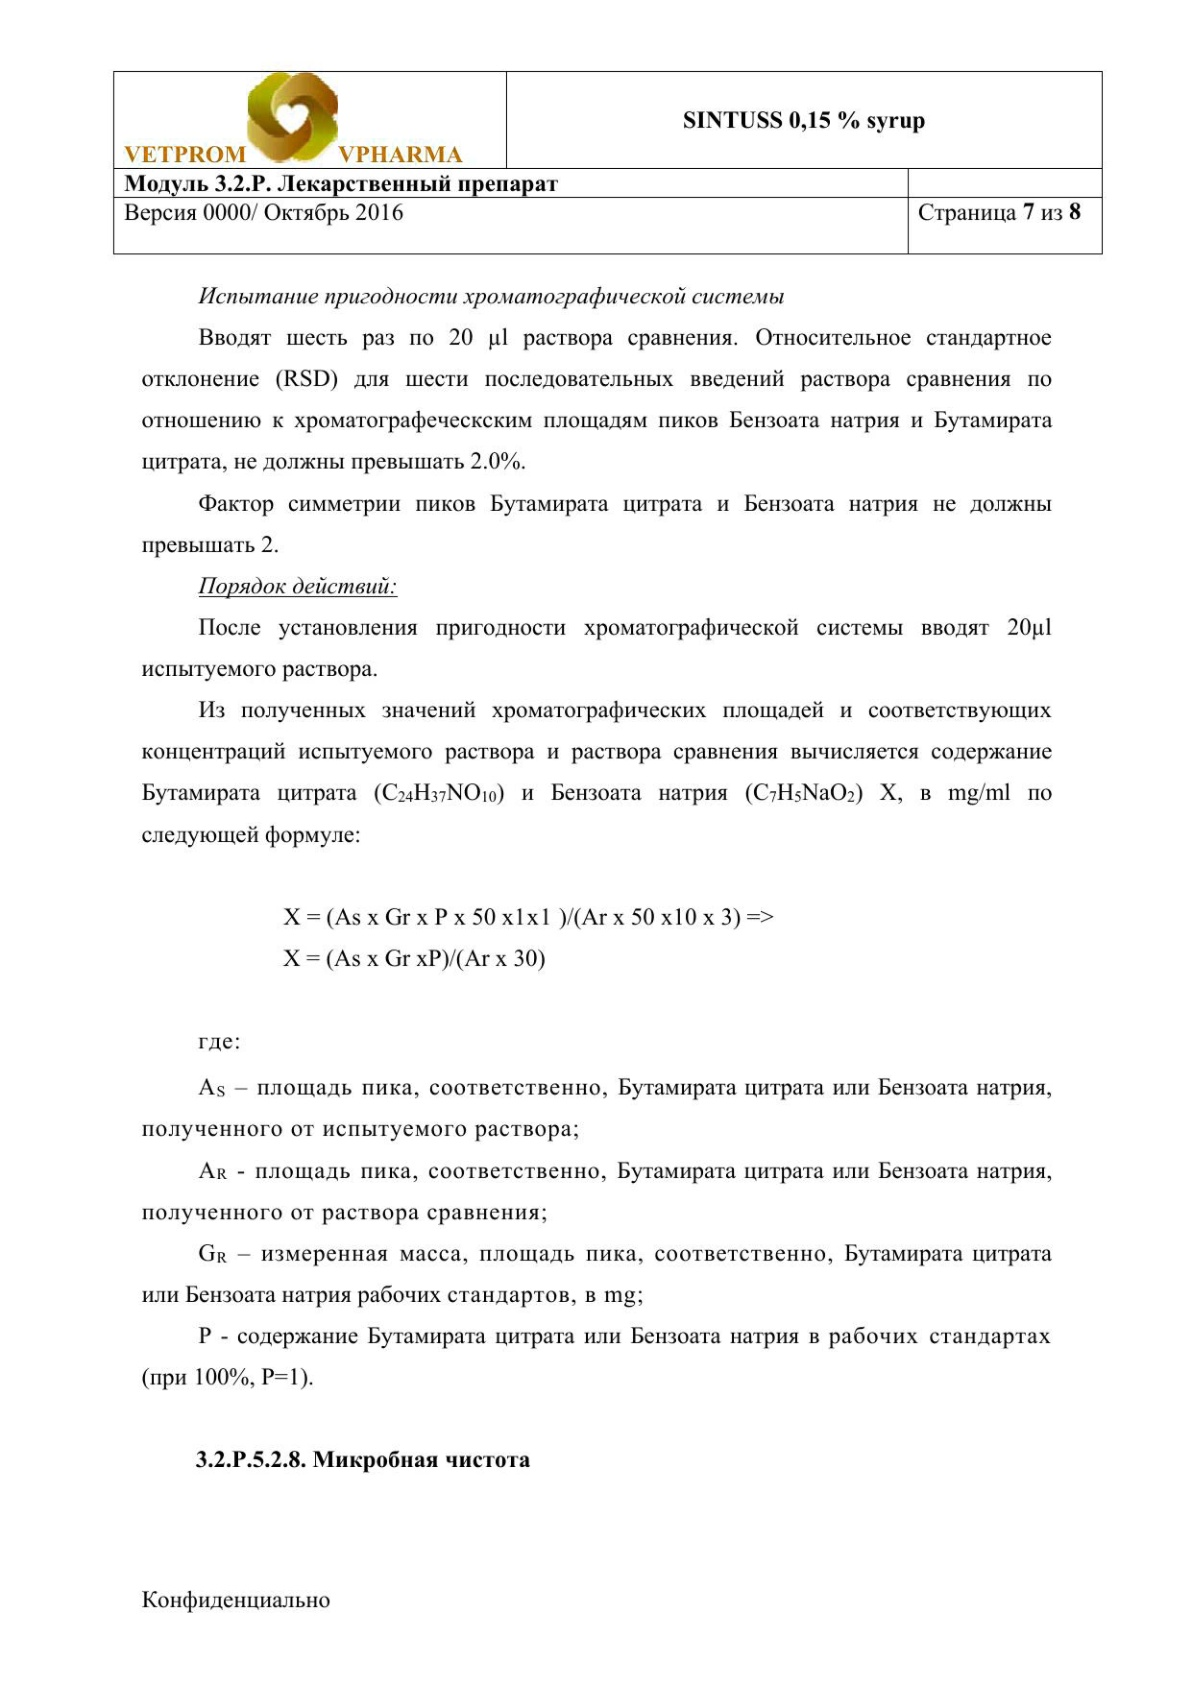merged_cells: (112, 70, 1106, 257)
